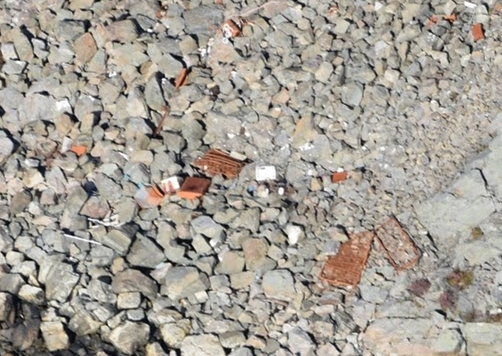cuboid: (313, 223, 376, 288), (368, 211, 427, 274)
together_barrel: (139, 139, 292, 208)
white_in_green: (200, 3, 258, 55), (153, 48, 211, 100), (309, 148, 367, 200), (453, 9, 502, 54)
